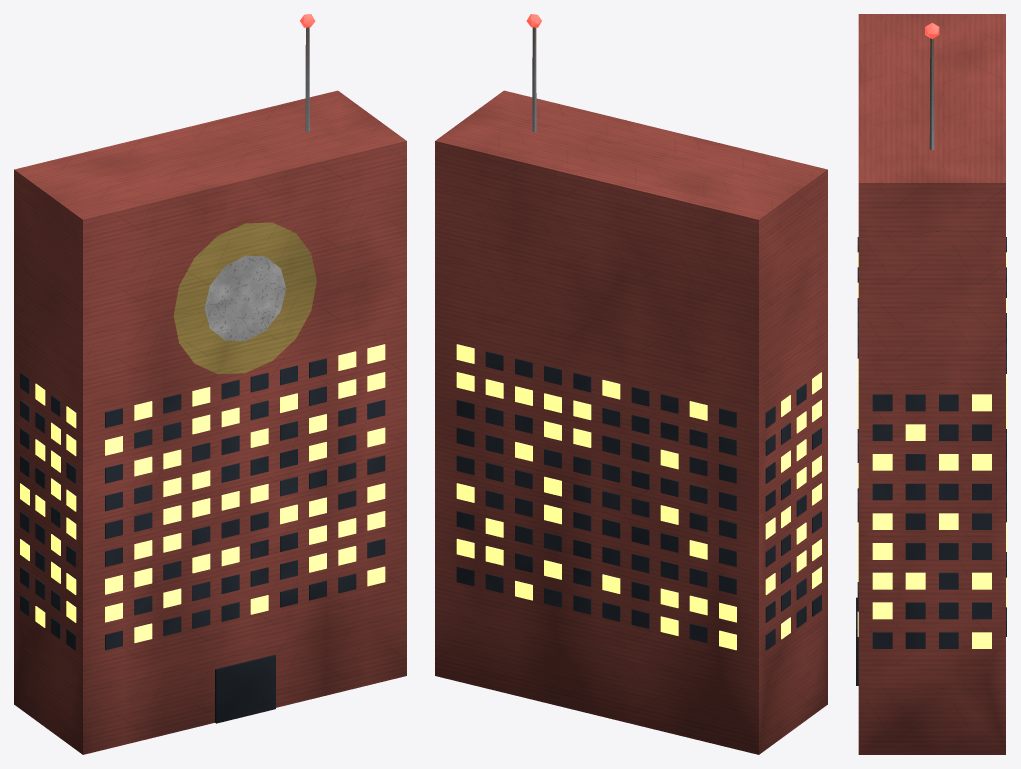
File: building_tower.glb
3 renders of one model, left to right at view 1: azimuth 30°, elevation 25°; view 2: azimuth 150°, elevation 25°; view 3: azimuth 270°, elevation 25°, orthographic. The views are drawn at different scales.
Visible parts, largest first — view 1: building_tower, group_3, group_222; view 2: building_tower, group_94, group_222; view 3: building_tower, group_185, group_3, group_94.
Boxes of the visible parts, x1,y1,x2,y2 form: building_tower: [14, 14, 406, 754]; group_3: [105, 344, 385, 650]; group_222: [20, 372, 76, 650]; building_tower: [435, 14, 827, 754]; group_94: [456, 344, 736, 650]; group_222: [765, 372, 821, 650]; building_tower: [856, 14, 1005, 754]; group_185: [872, 394, 991, 648]; group_3: [857, 237, 858, 636]; group_94: [1006, 237, 1006, 636].
Bounding box in the file's own units: 19.1 × 36.54 × 7.18.
8 materials, 6 textured.
